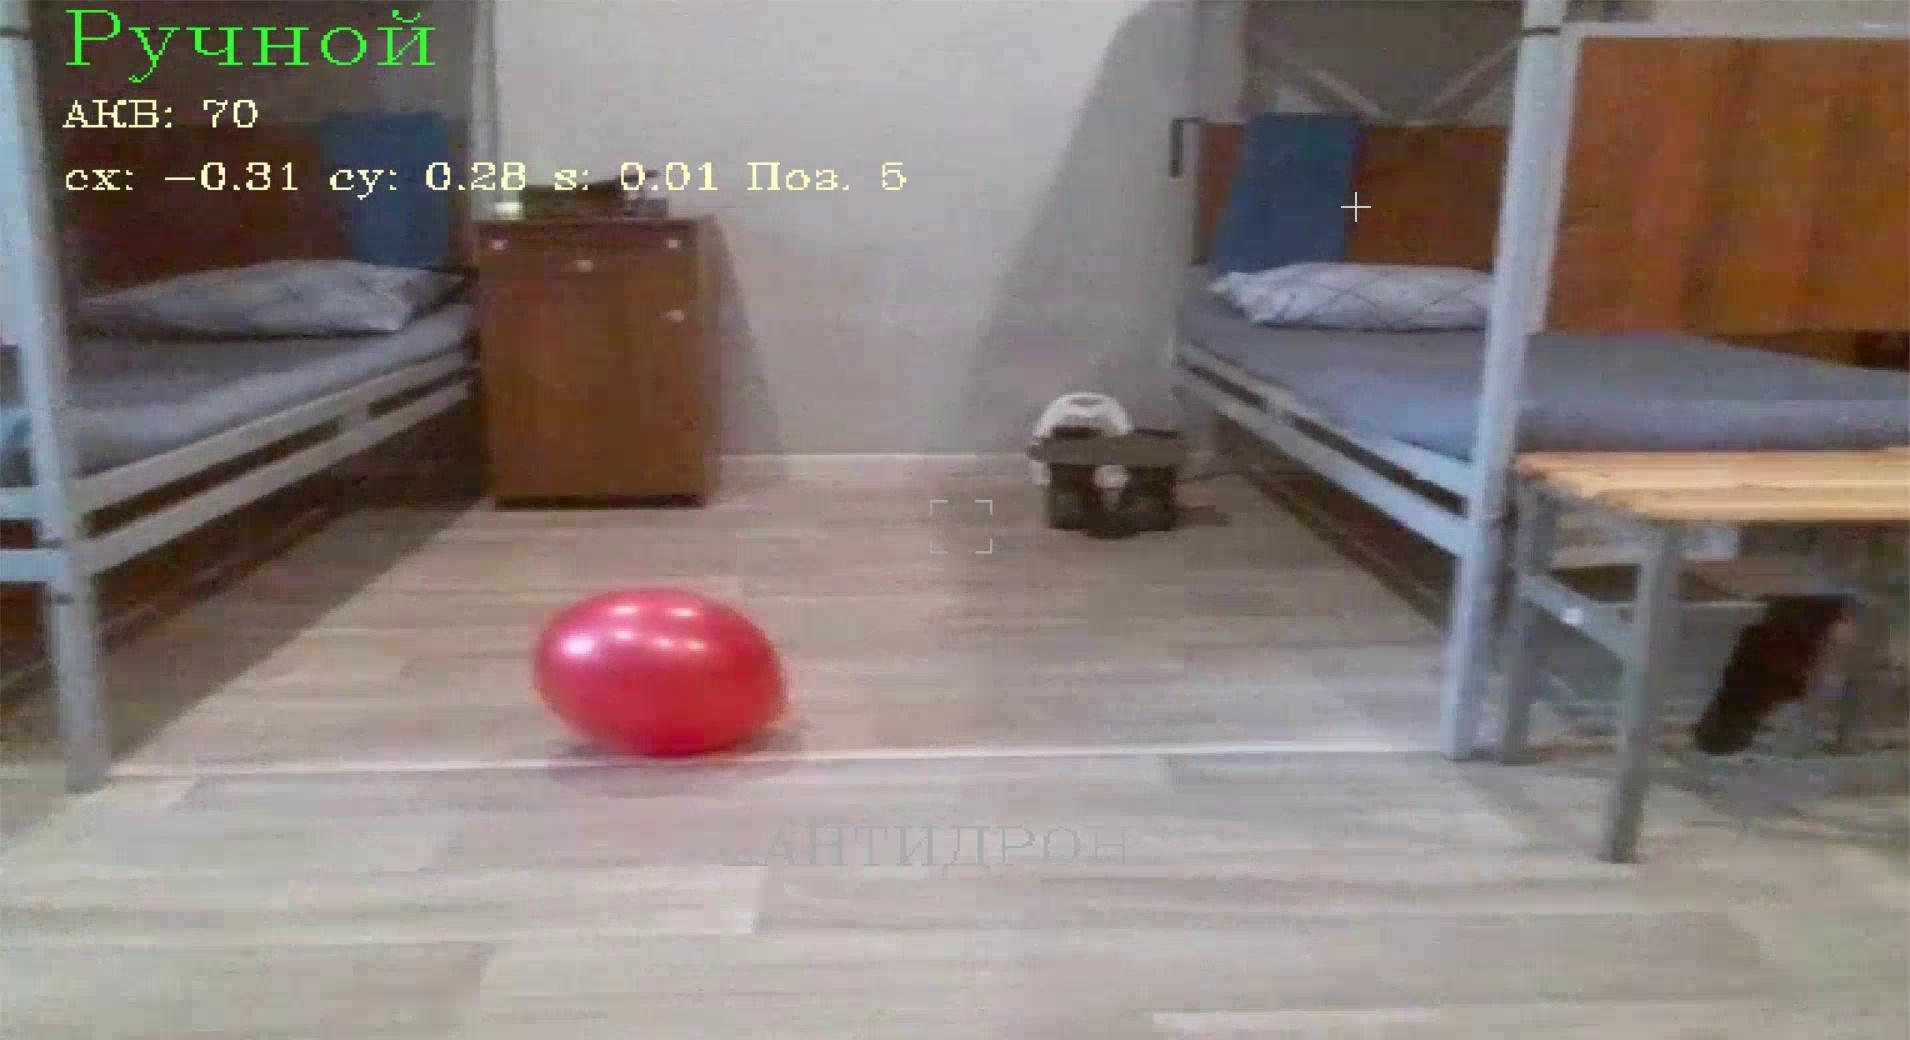red: (524, 581, 794, 768)
